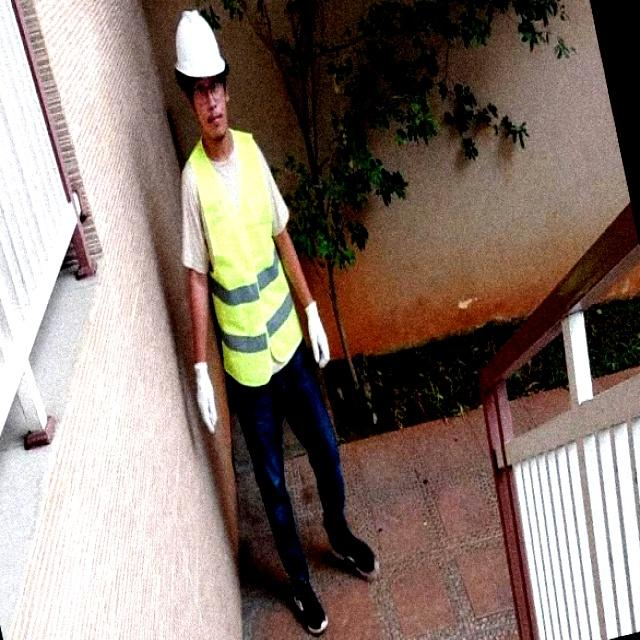helmet: (168, 8, 228, 83)
safety_vest: (182, 130, 308, 399)
